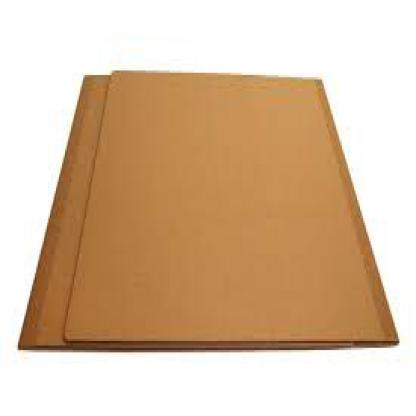CARDBOARD: (15, 73, 371, 350), (63, 70, 398, 341)
